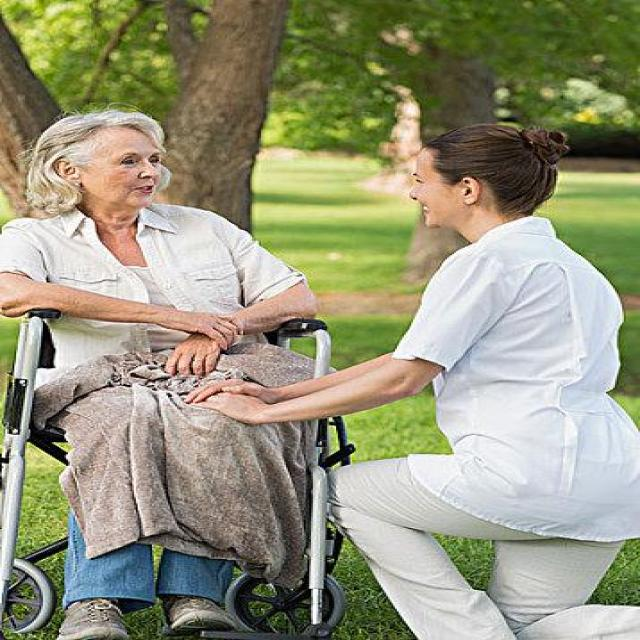wheelchairs: (0, 291, 392, 640)
